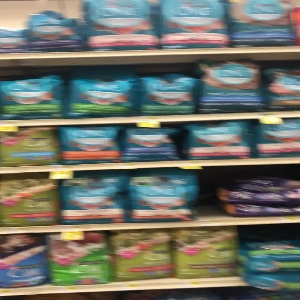void: (194, 168, 235, 221)
